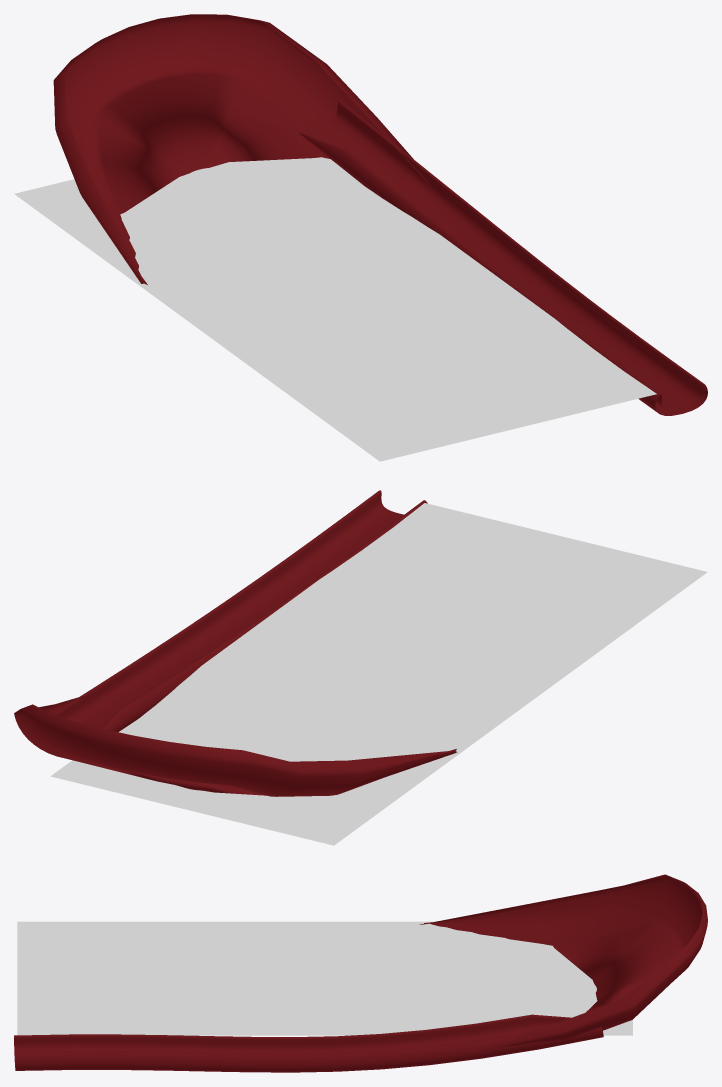
The model's file is arena.fbx.
The picture shows the model from 3 angles, top to bottom: view 1: azimuth 30°, elevation 25°; view 2: azimuth 150°, elevation 25°; view 3: azimuth 270°, elevation 25°; orthographic projection. The views are drawn at different scales.
Parts seen in each view (by area): view 1: Plane, Level; view 2: Plane, Level; view 3: Plane, Level.
Boxes of the visible parts, x1=… form: Plane: x1=14, y1=157, x2=656, y2=461; Level: x1=53, y1=14, x2=707, y2=415; Plane: x1=50, y1=503, x2=707, y2=845; Level: x1=14, y1=490, x2=457, y2=796; Plane: x1=17, y1=921, x2=632, y2=1035; Level: x1=14, y1=874, x2=707, y2=1072.
Size of the model in its own units: 8165 by 2948 by 17645.
